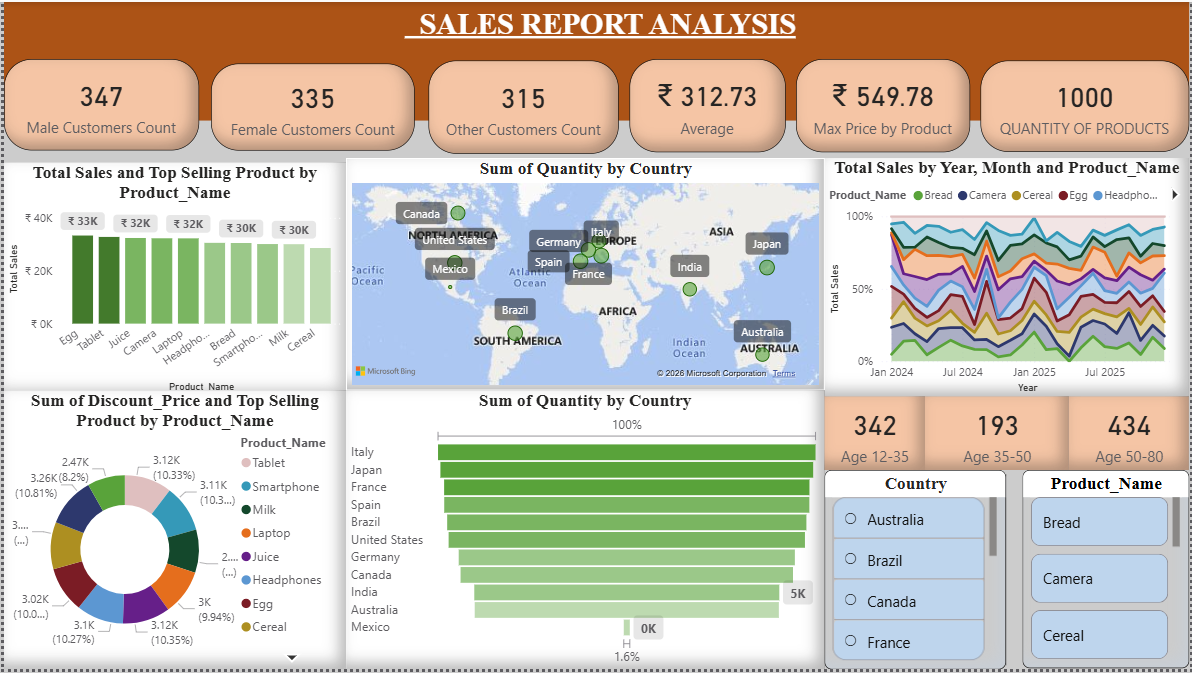

The page's visual inventory and layout, read from the dashboard file:
{"tool":"powerbi","page":{"name":"Page 7","canvas":[1280,720],"ordinal":6},"visuals":[{"type":"textbox","box":[0,0,1279.2,127.9],"z":0},{"type":"card","fields":{"Values":["sales.Male Customers Count"]},"box":[0,61.5,210.5,98.8],"z":1000},{"type":"card","fields":{"Values":["sales.Female Customers Count"]},"box":[223.5,66.4,220.2,93.9],"z":2000},{"type":"card","fields":{"Values":["sales.AVERAGE"]},"box":[675.2,61.5,168.4,100.4],"z":3000},{"type":"card","fields":{"Values":["sales.Other Customers Count"]},"box":[458.2,63.1,205.6,100.4],"z":4000},{"type":"card","fields":{"Values":["sales.Max Price by Product"]},"box":[855,61.5,187.8,100.4],"z":5000},{"type":"clusteredColumnChart","fields":{"Category":["sales.Product_Name"],"Y":["sales.Total Sales"]},"box":[0,173.3,369.2,252.6],"z":6000},{"type":"hundredPercentStackedAreaChart","fields":{"Category":["sales.Order_Date.Variation.Date Hierarchy.Year","sales.Order_Date.Variation.Date Hierarchy.Month"],"Y":["sales.Total Sales"],"Series":["sales.Product_Name"]},"box":[885.5,167.7,393.5,258.1],"z":7000},{"type":"map","fields":{"Category":["sales.Country"],"Size":["Sum(sales.Quantity)"]},"box":[369.2,168.4,516.5,251],"z":8000},{"type":"funnel","fields":{"Category":["sales.Country"],"Y":["Sum(sales.Quantity)"]},"box":[369.2,419.4,516.5,301.2],"z":9000},{"type":"donutChart","fields":{"Category":["sales.Product_Name"],"Y":["Sum(sales.Discount_Price)"]},"box":[0,419.4,369.2,301.2],"z":10000},{"type":"advancedSlicerVisual","fields":{"Values":["sales.Country"]},"box":[885.7,505.2,195.9,215.4],"z":11000},{"type":"advancedSlicerVisual","fields":{"Values":["sales.Product_Name"]},"box":[1099.5,505.2,179.7,213.7],"z":12000},{"type":"card","fields":{"Values":["sales.QUANTITY OF PRODUCTS"]},"box":[1054.1,63.1,225.1,98.8],"z":13000},{"type":"card","fields":{"Values":["sales.Customers Age 12-35"]},"box":[885.7,425.9,108.5,79.3],"z":14000},{"type":"card","fields":{"Values":["sales.Customers Age 35-50"]},"box":[994.2,425.9,155.4,79.3],"z":15000},{"type":"card","fields":{"Values":["sales.Customers Age 50-80"]},"box":[1149.7,425.9,129.5,79.3],"z":16000},{"type":"actionButton","box":[0,0,100,40],"z":17000}]}

Visuals, with their boxes in screenshot pixels (x1, y1, x2, y2), scaled from the page's 1280x720 canvas onto the 1192x673 screenshot:
textbox: 0:0:1191:120
card - sales.Male Customers Count: 0:57:196:150
card - sales.Female Customers Count: 208:62:413:150
card - sales.AVERAGE: 629:57:786:151
card - sales.Other Customers Count: 427:59:618:153
card - sales.Max Price by Product: 796:57:971:151
clusteredColumnChart - sales.Product_Name x sales.Total Sales: 0:162:344:398
hundredPercentStackedAreaChart - sales.Order_Date.Variation.Date Hierarchy.Year x sales.Order_Date.Variation.Date Hierarchy.Month: 825:157:1191:398
map - sales.Country x Sum(sales.Quantity): 344:157:825:392
funnel - sales.Country x Sum(sales.Quantity): 344:392:825:672
donutChart - sales.Product_Name x Sum(sales.Discount_Price): 0:392:344:672
advancedSlicerVisual - sales.Country: 825:472:1007:672
advancedSlicerVisual - sales.Product_Name: 1024:472:1191:672
card - sales.QUANTITY OF PRODUCTS: 982:59:1191:151
card - sales.Customers Age 12-35: 825:398:926:472
card - sales.Customers Age 35-50: 926:398:1071:472
card - sales.Customers Age 50-80: 1071:398:1191:472
actionButton: 0:0:93:37
